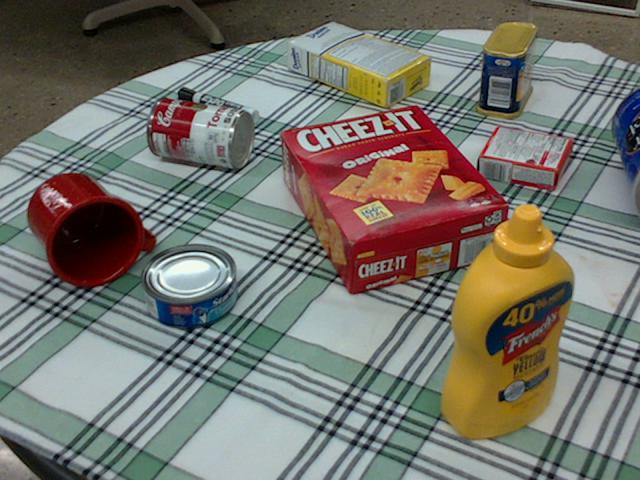cracker_box: (283, 104, 509, 291)
gelatin_box: (476, 127, 569, 188)
large_marker: (176, 87, 256, 122)
master_chef_can: (608, 86, 639, 212)
mug: (26, 172, 152, 286)
mustard_bottle: (442, 202, 575, 437)
potted_meat_can: (475, 22, 535, 118)
sugar_box: (287, 22, 432, 107)
tomato_soup_can: (146, 96, 253, 166)
tuna_fish_can: (138, 243, 236, 328)
